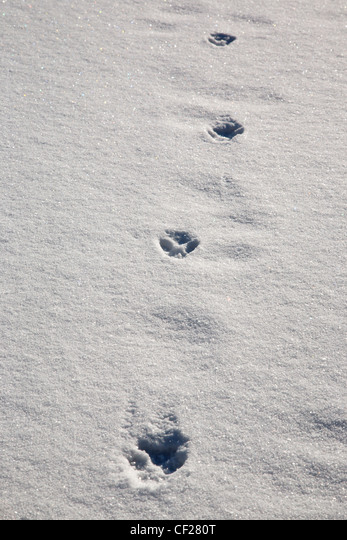fox: (123, 421, 195, 486), (152, 226, 205, 262), (208, 114, 247, 143), (207, 29, 238, 52)
